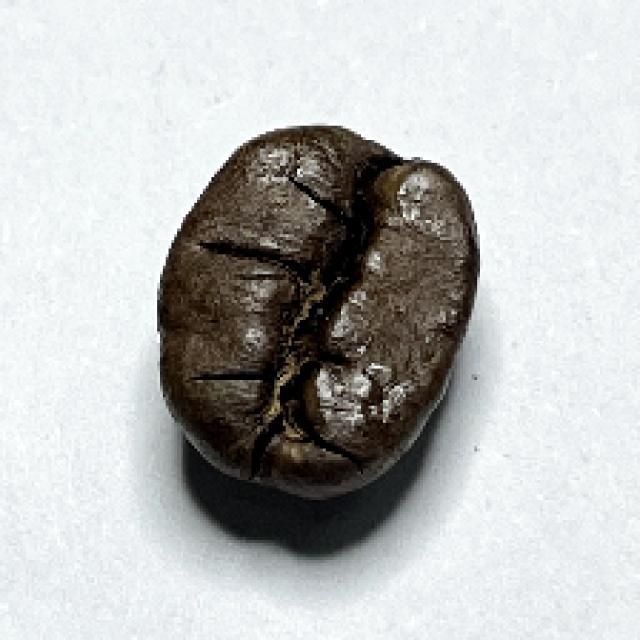bean: (154, 124, 482, 499)
